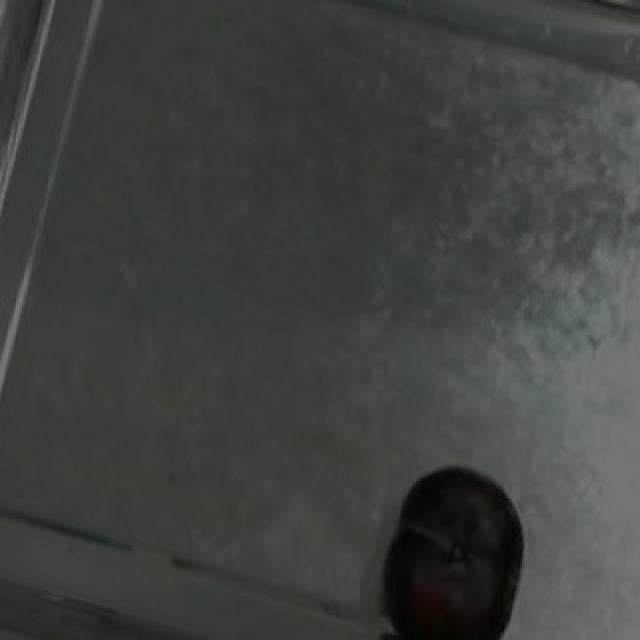Fruit: (378, 451, 534, 640)
